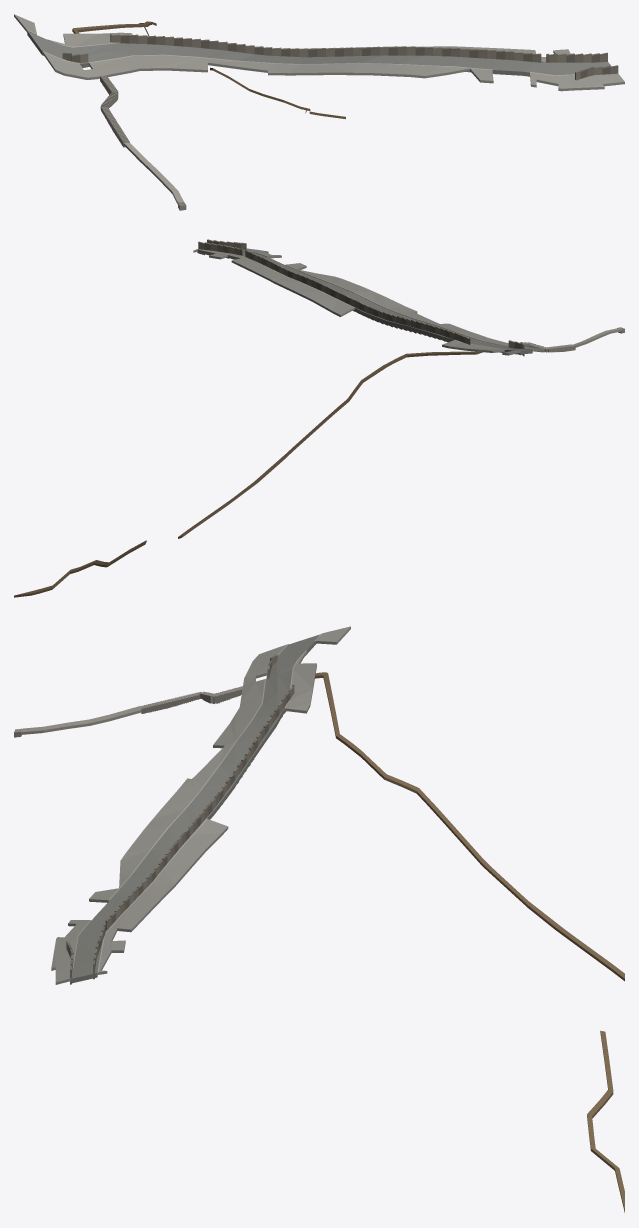
3 renders of one model, top to bottom at view 1: azimuth 30°, elevation 25°; view 2: azimuth 150°, elevation 25°; view 3: azimuth 270°, elevation 25°, orthographic. The views are drawn at different scales.
Bounding box in the file's own units: 147 × 89.77 × 146.
